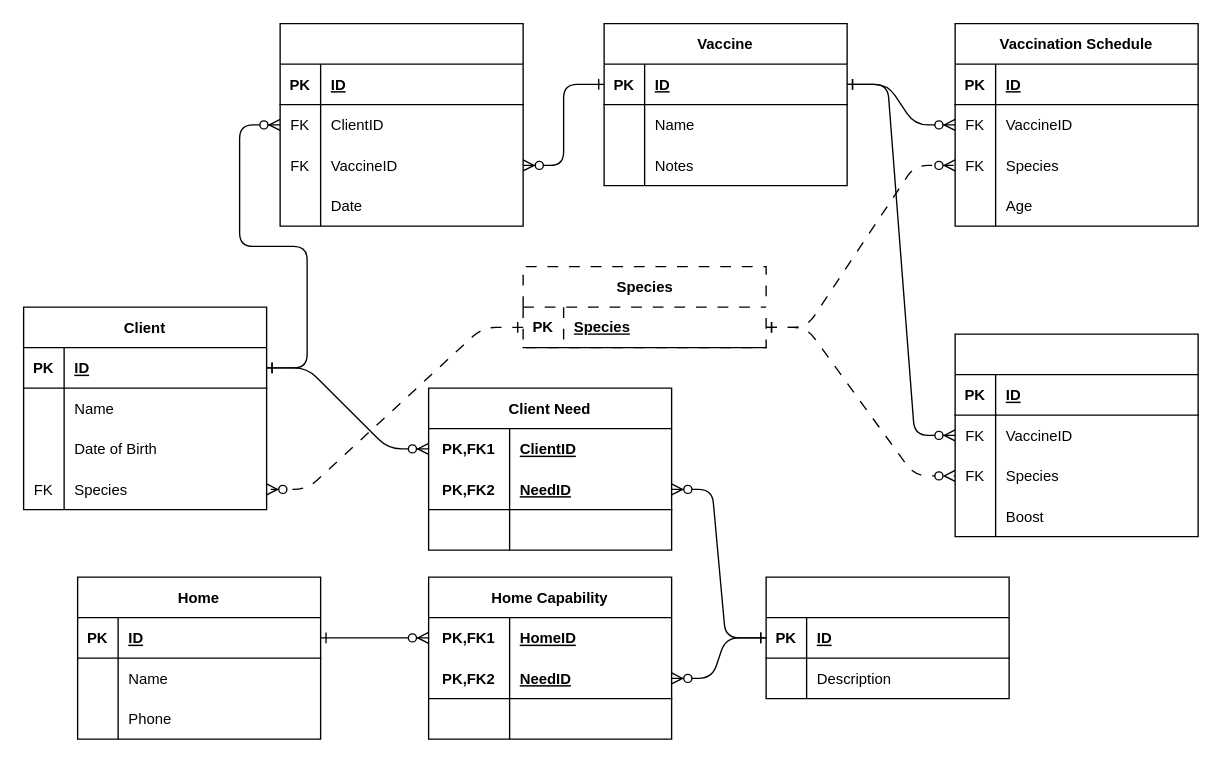
Some shapes in this 1222 by 763 pixel diagram are drawn without their labels. Here are the shapes that lost their labels. From the top down, the box of each, then its label:
(279, 22, 523, 226): Vaccination
(954, 333, 1198, 537): Recurring Vaccine
(765, 576, 1009, 699): Special Need
